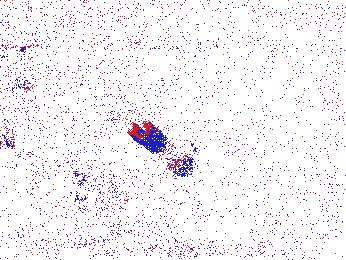flame jellyfish: (128, 120, 204, 186), (1, 49, 38, 150), (71, 169, 128, 223)
